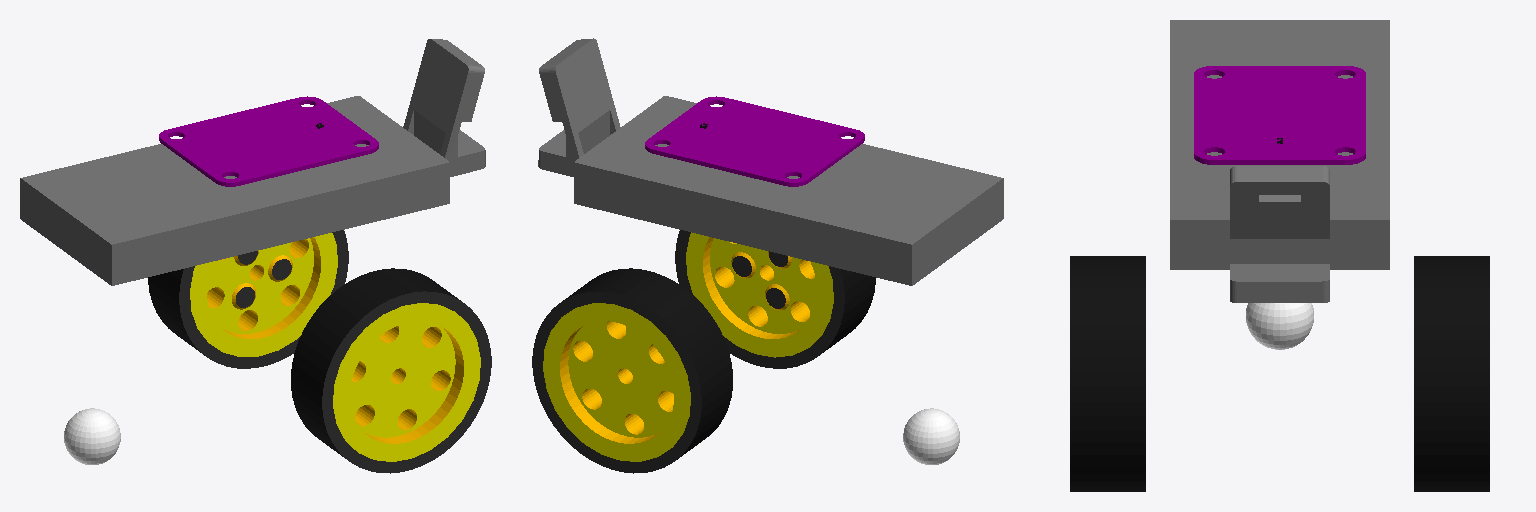
URDF robot description (duckiebot):
<?xml version="1.0"?>
<robot name="duckiebot" xmlns:xacro="http://ros.org/wiki/xacro">

  <material name="blue">
    <color rgba="0.0 0.0 0.8 1.0"/>
  </material>
  <material name="grey">
    <color rgba="0.5 0.5 0.5 1.0"/>
  </material>
  <material name="red">
    <color rgba="0.8 0.0 0.0 1.0"/>
  </material>
  <material name="indigo">
    <color rgba="0.33 0.0 0.5 1.0"/>
  </material>
  <material name="yellow">
    <color rgba="1.0 1.0 0.0 1.0"/>
  </material>
  <material name="white">
    <color rgba="1.0 1.0 1.0 1.0"/>
  </material>
  <material name="black">
    <color rgba="0.01 0.01 0.01 0.9"/>
  </material>

  <link name="base_footprint"/>

  <joint name="base_joint" type="fixed">
    <parent link="base_footprint"/>
    <child link="base_link"/>
    <origin xyz="0.0 0.0 0.03425" rpy="0 0 0"/>
  </joint>
  <link name="base_link">
    <visual>
      <origin xyz="0 0 0" rpy="0 0 0"/>
      <geometry>
        <mesh filename="package://rosrider_description/meshes/duckiebot_body.dae" scale="1 1 1"/>
      </geometry>
    </visual>
  </link>

  <joint name="wheel_left_joint" type="continuous">
    <parent link="base_link"/>
    <child link="wheel_left_link"/>
    <origin xyz="0.0 0.05 0.0" rpy="0 0 0"/>
    <axis xyz="0 1 0"/>
  </joint>
  <link name="wheel_left_link">
    <visual>
      <origin xyz="0 0 0" rpy="1.570796 0 0"/>
      <geometry>
        <mesh filename="package://rosrider_description/meshes/wheel_left.dae" scale="1 1 1"/>
      </geometry>
    </visual>
  </link>

  <joint name="wheel_right_joint" type="continuous">
    <parent link="base_link"/>
    <child link="wheel_right_link"/>
    <origin xyz="0.0 -0.05 0.0" rpy="0 0 0"/>
    <axis xyz="0 1 0"/>
  </joint>
  <link name="wheel_right_link">
    <visual>
      <origin xyz="0 0 0" rpy="1.570796 0 0"/>
      <geometry>
        <mesh filename="package://rosrider_description/meshes/wheel_right.dae" scale="1 1 1"/>
      </geometry>
    </visual>
  </link>

  <joint name="wheel_castor_joint" type="fixed">
    <parent link="base_link"/>
    <child link="wheel_castor_link"/>
    <origin xyz="-0.09185 0 -0.02425" rpy="0 0 0"/>
  </joint>

  <link name="wheel_castor_link">
    <visual>
      <origin xyz="0 0 0" rpy="0 0 0"/>
      <geometry>
        <sphere radius="0.01"/>
      </geometry>
      <material name="white"/>
    </visual>
  </link>

  <joint name="imu_joint" type="fixed">
    <parent link="base_link"/>
    <child link="imu_link"/>
    <origin xyz="0 0 0.0739" rpy="0 0 0"/>
  </joint>

  <link name="imu_link">
    <visual>
      <origin xyz="0 0 0" rpy="0 0 0"/>
      <geometry>
        <mesh filename="package://rosrider_description/meshes/fximu3e.dae" scale="1 1 1"/>
      </geometry>
    </visual>
  </link>

  <joint name="battery_joint" type="fixed">
    <parent link="base_link"/>
    <child link="battery_link"/>
    <origin xyz="-0.034057 0 0.057282" rpy="0 0 0"/>
  </joint>

  <link name="battery_link">
    <visual>
      <origin xyz="0 0 0" rpy="0 0 0"/>
      <geometry>
        <box size="0.1368 0.0639 0.016"/>
      </geometry>
      <material name="grey"/>
    </visual>
  </link>

  <joint name="camera_joint" type="fixed">
    <parent link="base_link"/>
    <child link="camera_optical_frame"/>
    <origin xyz="0.05935 0.0 0.07690" rpy="-1.87 0.0 -1.570796"/>
  </joint>

  <link name="camera_optical_frame">
    <visual>
      <origin xyz="0 0 0" rpy="0 0 0"/>
      <geometry>
        <mesh filename="package://rosrider_description/meshes/cam_stand_optical.dae" scale="1 1 1"/>
      </geometry>
      <material name="grey"/>
    </visual>
  </link>

</robot>

--- Render facts (derived) ---
Views: 3 orthographic renders of the robot side by side, from view 1: azimuth 30°, elevation 25°; view 2: azimuth 150°, elevation 25°; view 3: azimuth 270°, elevation 25°.
Robot: duckiebot — 8 links, 7 joints (2 continuous, 5 fixed); root link base_footprint; default pose: every joint at zero.
Visible links, largest first — view 1: battery_link, wheel_right_link, wheel_left_link, imu_link, camera_optical_frame, wheel_castor_link; view 2: battery_link, wheel_left_link, wheel_right_link, imu_link, camera_optical_frame, wheel_castor_link; view 3: battery_link, wheel_left_link, wheel_right_link, imu_link, camera_optical_frame, wheel_castor_link.
Boxes of the visible links, x1,y1,x2,y2 form: battery_link: [20, 96, 449, 285]; wheel_right_link: [291, 268, 491, 473]; wheel_left_link: [148, 230, 348, 368]; imu_link: [159, 96, 378, 186]; camera_optical_frame: [403, 39, 485, 176]; wheel_castor_link: [64, 408, 120, 464]; battery_link: [574, 96, 1003, 285]; wheel_left_link: [532, 268, 732, 473]; wheel_right_link: [675, 230, 875, 368]; imu_link: [645, 96, 864, 186]; camera_optical_frame: [538, 38, 620, 176]; wheel_castor_link: [903, 408, 959, 464]; battery_link: [1170, 20, 1389, 269]; wheel_left_link: [1414, 256, 1489, 491]; wheel_right_link: [1070, 256, 1145, 491]; imu_link: [1194, 66, 1365, 164]; camera_optical_frame: [1230, 166, 1329, 302]; wheel_castor_link: [1246, 303, 1313, 349].
Bounding box of the posed robot: 0.1626 × 0.122 × 0.1251 m (x, y, z).
4 mesh visuals loaded from 5 distinct referenced files (4 Collada DAE); not drawn: 1 (reference not matched to a file when rendering).
